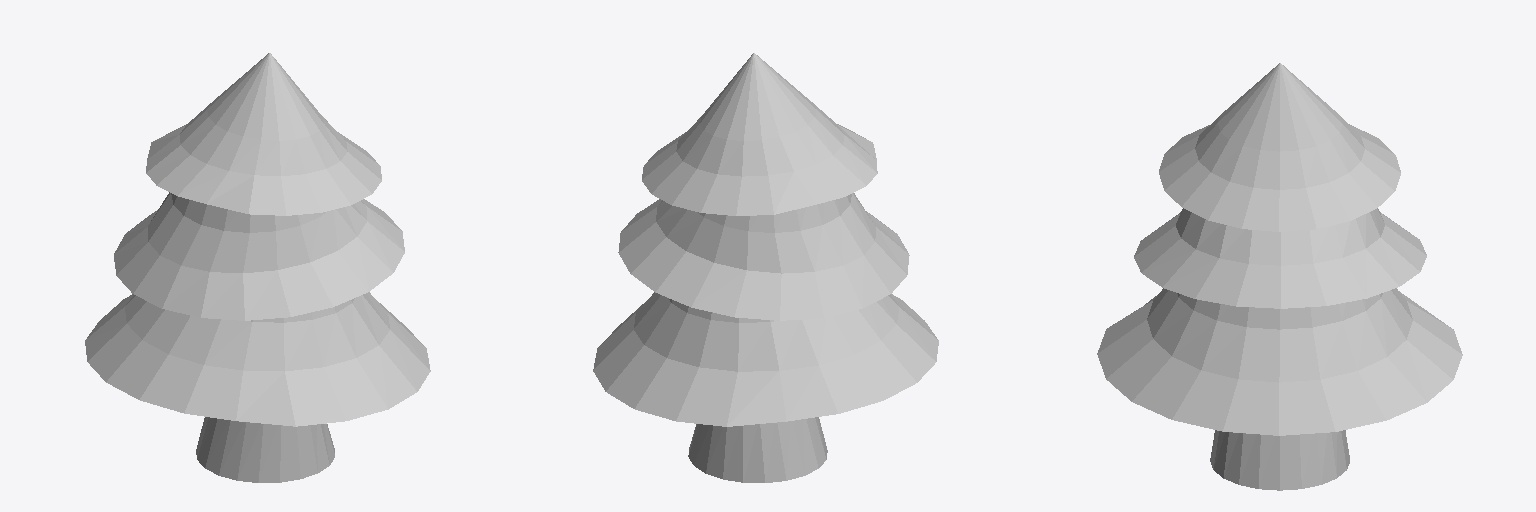
Rendered from SmallTree.obj.
The picture shows the model from 3 angles: view 1: azimuth 30°, elevation 25°; view 2: azimuth 150°, elevation 25°; view 3: azimuth 270°, elevation 25°; orthographic projection.
Parts seen in each view (by area): view 1: pCylinder8; view 2: pCylinder8; view 3: pCylinder8.
Boxes of the visible parts, x1=… form: pCylinder8: x1=85, y1=53, x2=430, y2=482; pCylinder8: x1=593, y1=53, x2=938, y2=482; pCylinder8: x1=1097, y1=63, x2=1462, y2=490.
Bounding box in the file's own units: 4.57 × 5.84 × 4.83.